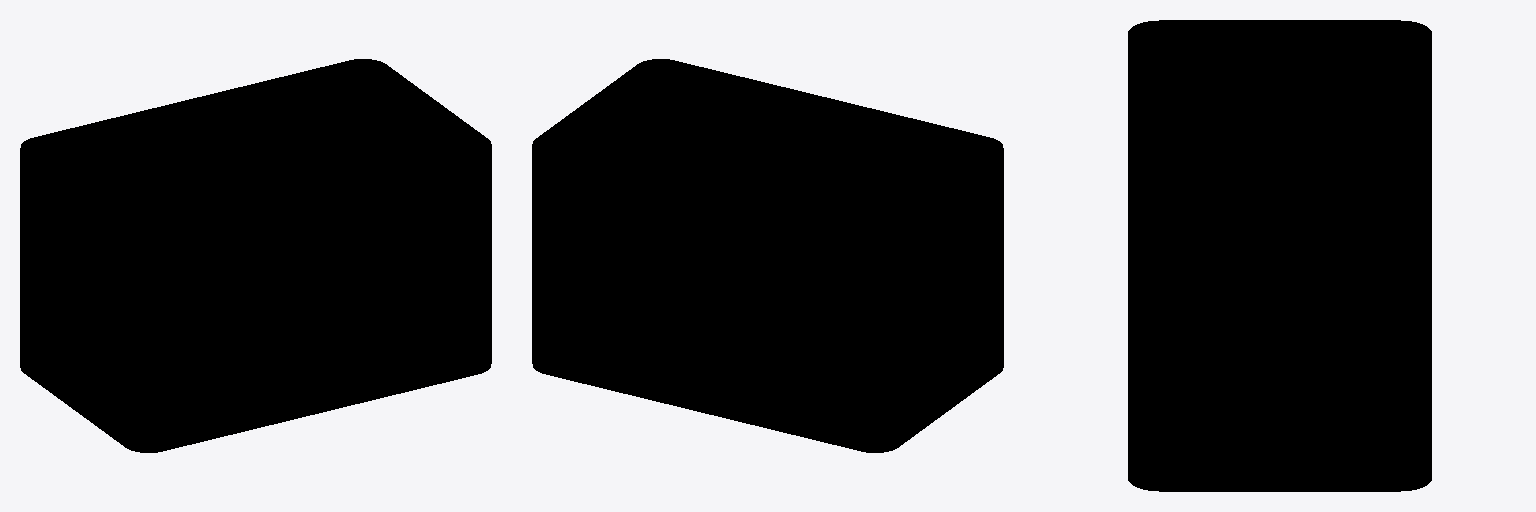
URDF robot description (power_plug):
<?xml version="1.0"?>
<robot name="power_plug">
    <link name="power_plug">
        <visual>
            <geometry>
                <mesh filename="../mesh/contact_mesh/lidded_loose_plug.obj"/>
            </geometry>
            <material name="Black">
                <color rgba="0 0 0 1"/>
            </material>
        </visual>
        <collision>
            <geometry>
                <mesh filename="../mesh/contact_mesh/lidded_loose_plug.obj"/>
            </geometry>
            <sdf resolution="128"/>
        </collision>
    </link>
</robot>

--- Facts derived from the render (not from the file) ---
The picture shows the robot from 3 angles, left to right: view 1: azimuth 30°, elevation 25°; view 2: azimuth 150°, elevation 25°; view 3: azimuth 270°, elevation 25°; orthographic projection.
Model power_plug with 1 links and 0 joints (none), rooted at power_plug, posed all joints at 0.
Links seen in each view (by area): view 1: power_plug; view 2: power_plug; view 3: power_plug.
Link boxes in pixels (box(x1,y1,x2,y2)): power_plug: box(20, 59, 491, 452); power_plug: box(532, 59, 1003, 452); power_plug: box(1128, 20, 1431, 491).
Bounding box of the posed robot: 0.062 × 0.038 × 0.036 m (x, y, z).
1 mesh visuals loaded from 1 distinct referenced files (1 OBJ).
